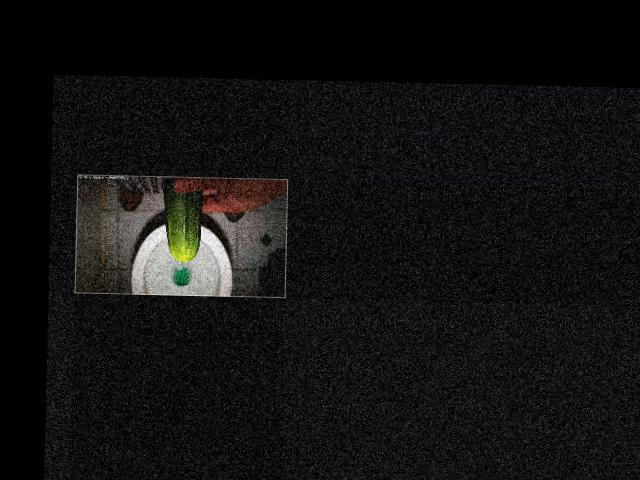cucumber: (160, 175, 202, 261)
